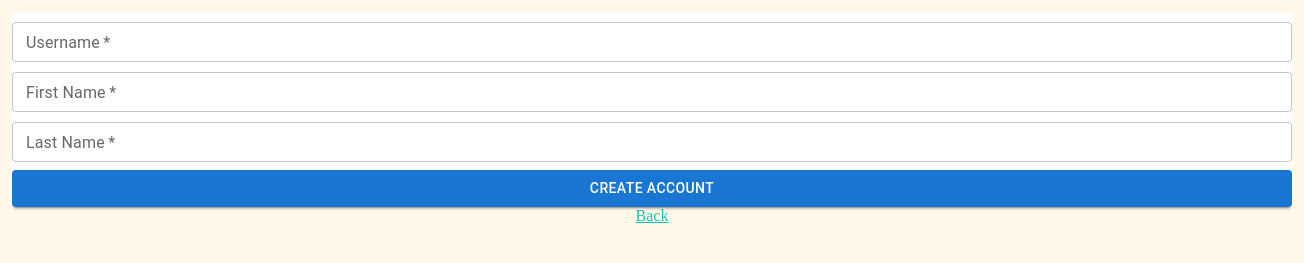
it: RegisterFormPt2 › shows username is invalid
This screenshot has width=1304, height=263.
Type "no" into the field labelled "Username *" at {"x": 652, "y": 42}, box [12,22,1292,62]
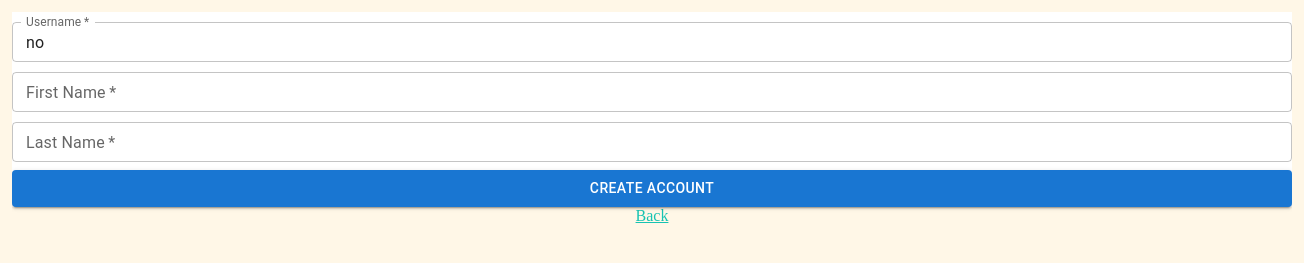
Type "John" into the field labelled "First Name *" at {"x": 652, "y": 92}, box [12,72,1292,112]
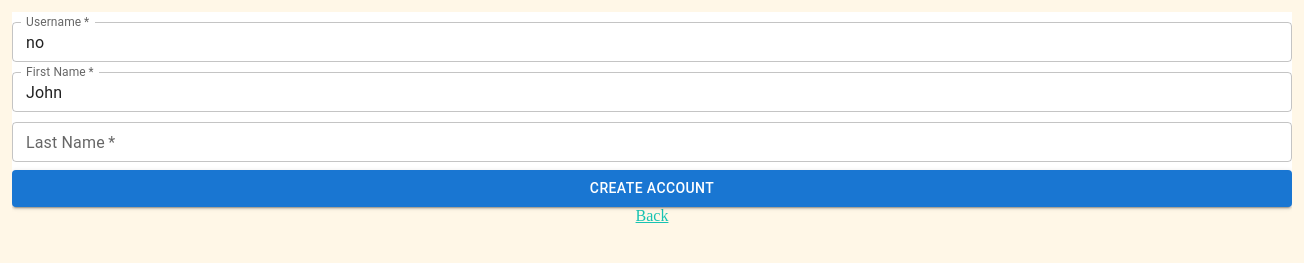
Type "Doe" into the field labelled "Last Name *" at {"x": 652, "y": 142}, box [12,122,1292,162]
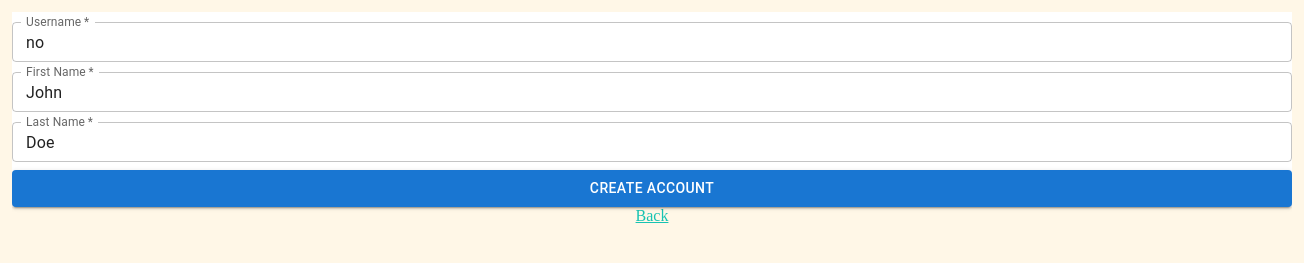
Click the button "Create Account" at {"x": 652, "y": 188}, box [12,170,1292,206]
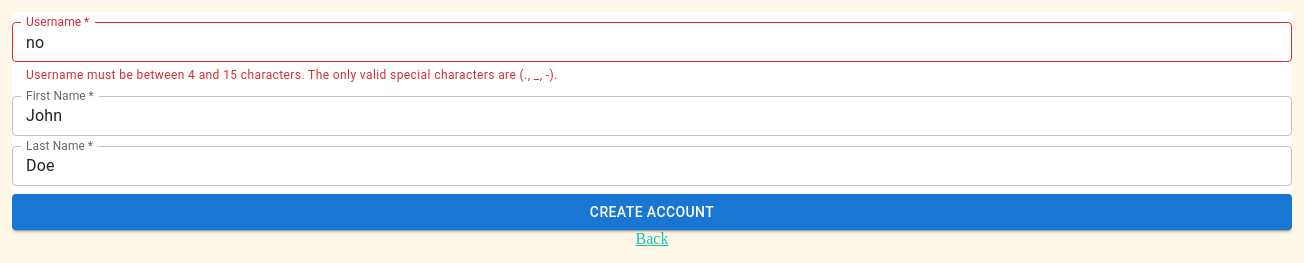
Expected: the text "Username must be between 4 and 15 characters." is shown, [26,68,558,82]
